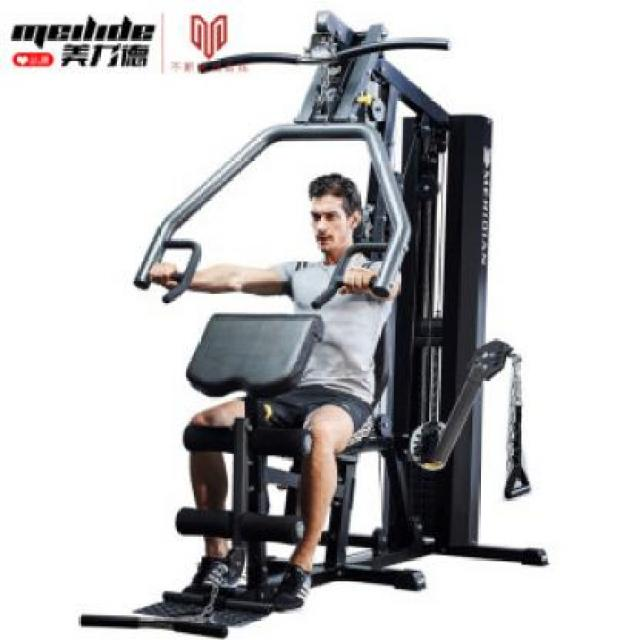Chest Press machine: (82, 11, 550, 640)
